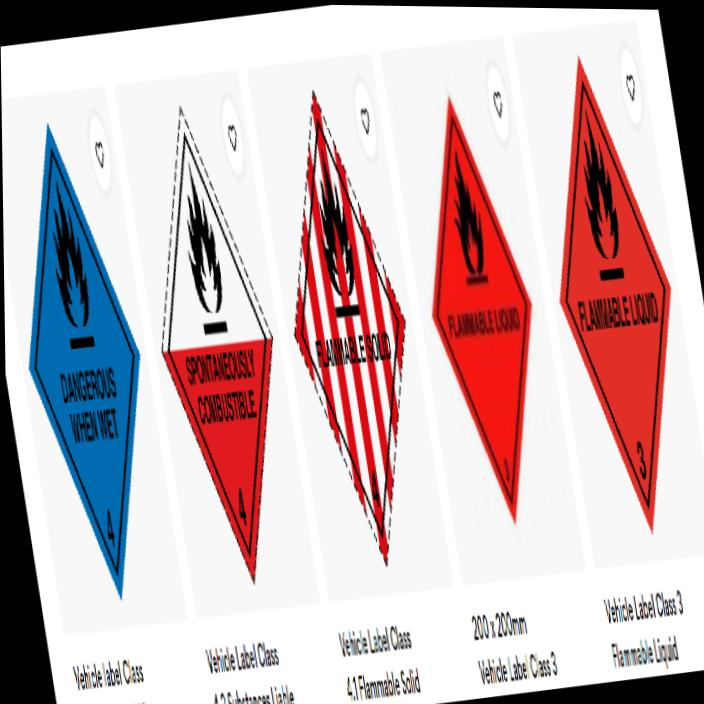can and bottle trash cans: (559, 56, 670, 531), (432, 98, 530, 520)
chair: (292, 93, 404, 563)
charging station: (161, 107, 272, 581)
clock: (29, 125, 138, 597)
